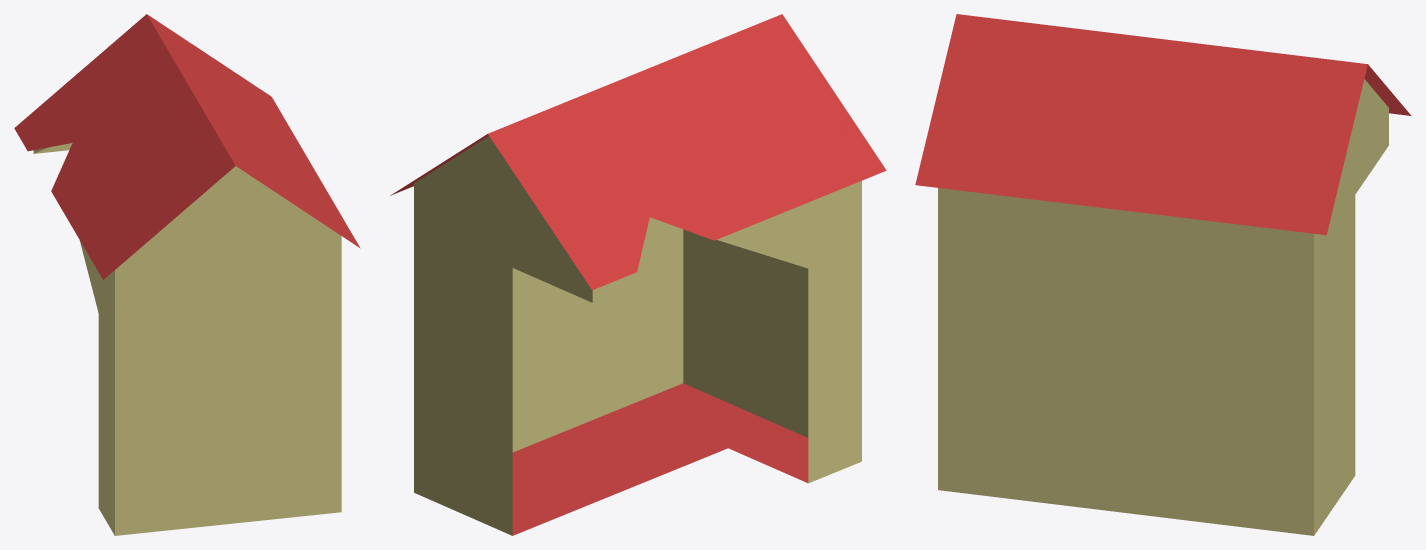
The picture shows the model from 3 angles, left to right: view 1: azimuth 30°, elevation 25°; view 2: azimuth 150°, elevation 25°; view 3: azimuth 270°, elevation 25°; orthographic projection. The views are drawn at different scales.
Bounding box in the file's own units: 11.23 × 13.49 × 12.62.
